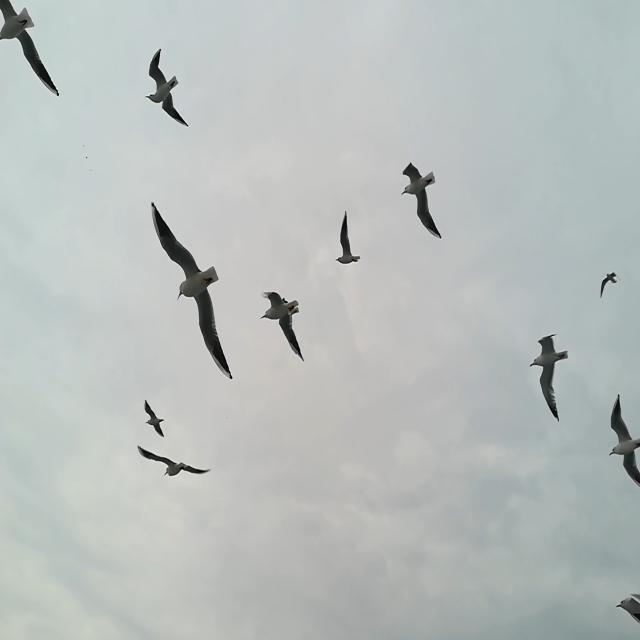bird: (150, 203, 234, 381), (0, 0, 65, 102), (143, 49, 189, 128), (528, 335, 569, 422), (399, 161, 442, 239), (260, 289, 305, 359), (608, 394, 639, 493), (138, 446, 212, 480), (337, 211, 363, 264), (144, 400, 168, 438), (614, 592, 640, 624), (600, 271, 621, 299)
